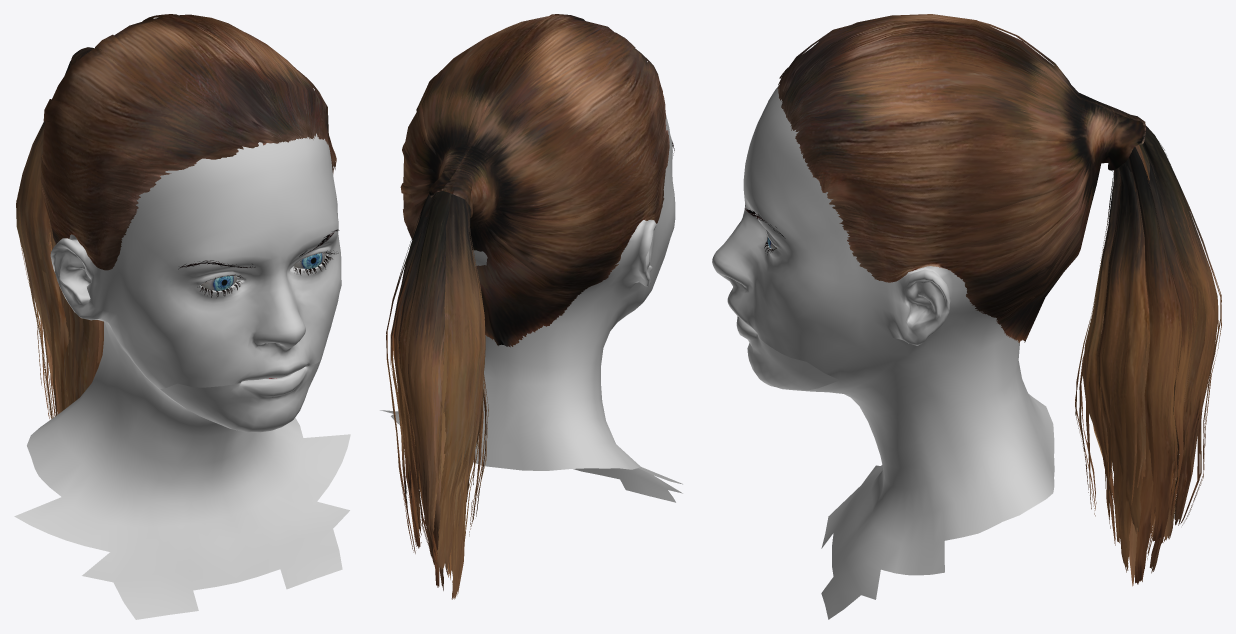
File: Head.fbx
3 renders of one model, left to right at view 1: azimuth 30°, elevation 25°; view 2: azimuth 150°, elevation 25°; view 3: azimuth 270°, elevation 25°, orthographic. The views are drawn at different scales.
Parts seen in each view (by area): view 1: zhenshinaMesh, ponytail01Mesh, zhenshinaMesh.001, low-polyMesh; view 2: ponytail01Mesh, zhenshinaMesh; view 3: ponytail01Mesh, zhenshinaMesh, zhenshinaMesh.001.
Boxes of the visible parts, bbox=[...] form: zhenshinaMesh: bbox=[14, 133, 350, 619]; ponytail01Mesh: bbox=[16, 14, 336, 418]; zhenshinaMesh.001: bbox=[160, 359, 321, 432]; low-polyMesh: bbox=[201, 252, 325, 290]; ponytail01Mesh: bbox=[386, 14, 669, 599]; zhenshinaMesh: bbox=[380, 115, 682, 502]; ponytail01Mesh: bbox=[777, 14, 1221, 586]; zhenshinaMesh: bbox=[712, 86, 1054, 619]; zhenshinaMesh.001: bbox=[736, 316, 839, 391].
Size of the model in its own units: 239 by 391 by 306.
